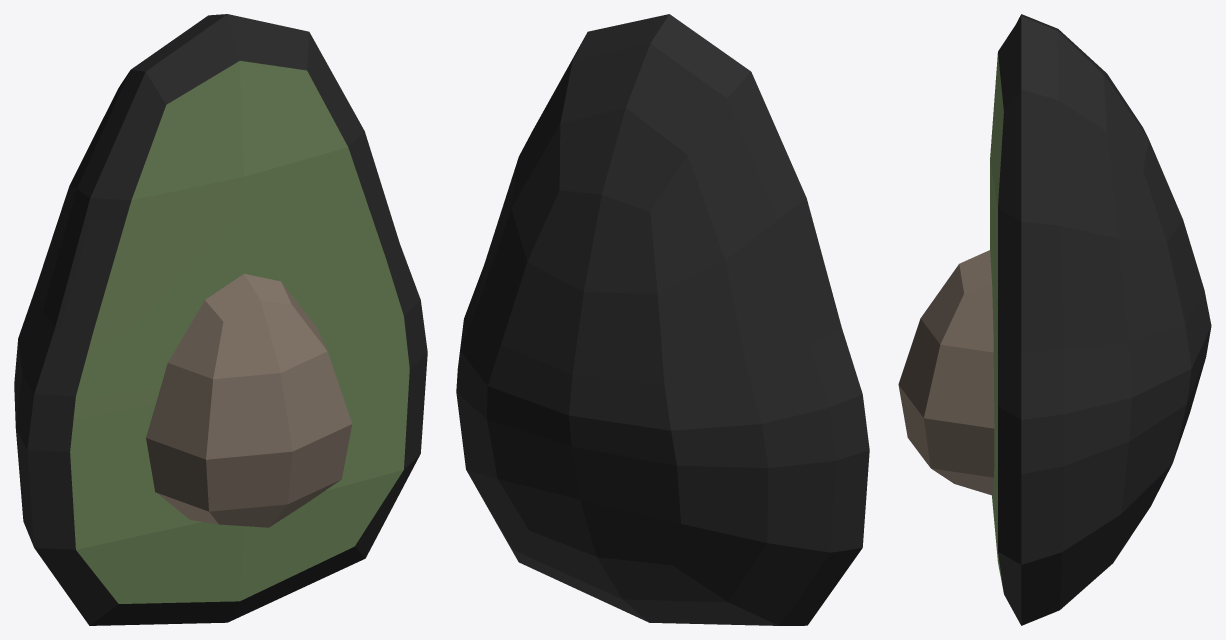
The model's file is food-Avocado.glb.
The picture shows the model from 3 angles, left to right: view 1: azimuth 30°, elevation 25°; view 2: azimuth 150°, elevation 25°; view 3: azimuth 270°, elevation 25°; orthographic projection. The views are drawn at different scales.
Visible parts, largest first — view 1: Avocado; view 2: Avocado; view 3: Avocado.
Boxes of the visible parts, bbox=[...] form: Avocado: bbox=[14, 14, 427, 625]; Avocado: bbox=[456, 14, 869, 625]; Avocado: bbox=[898, 14, 1211, 625].
Bounding box in the file's own units: 0.7531 × 1.09 × 0.5398.
